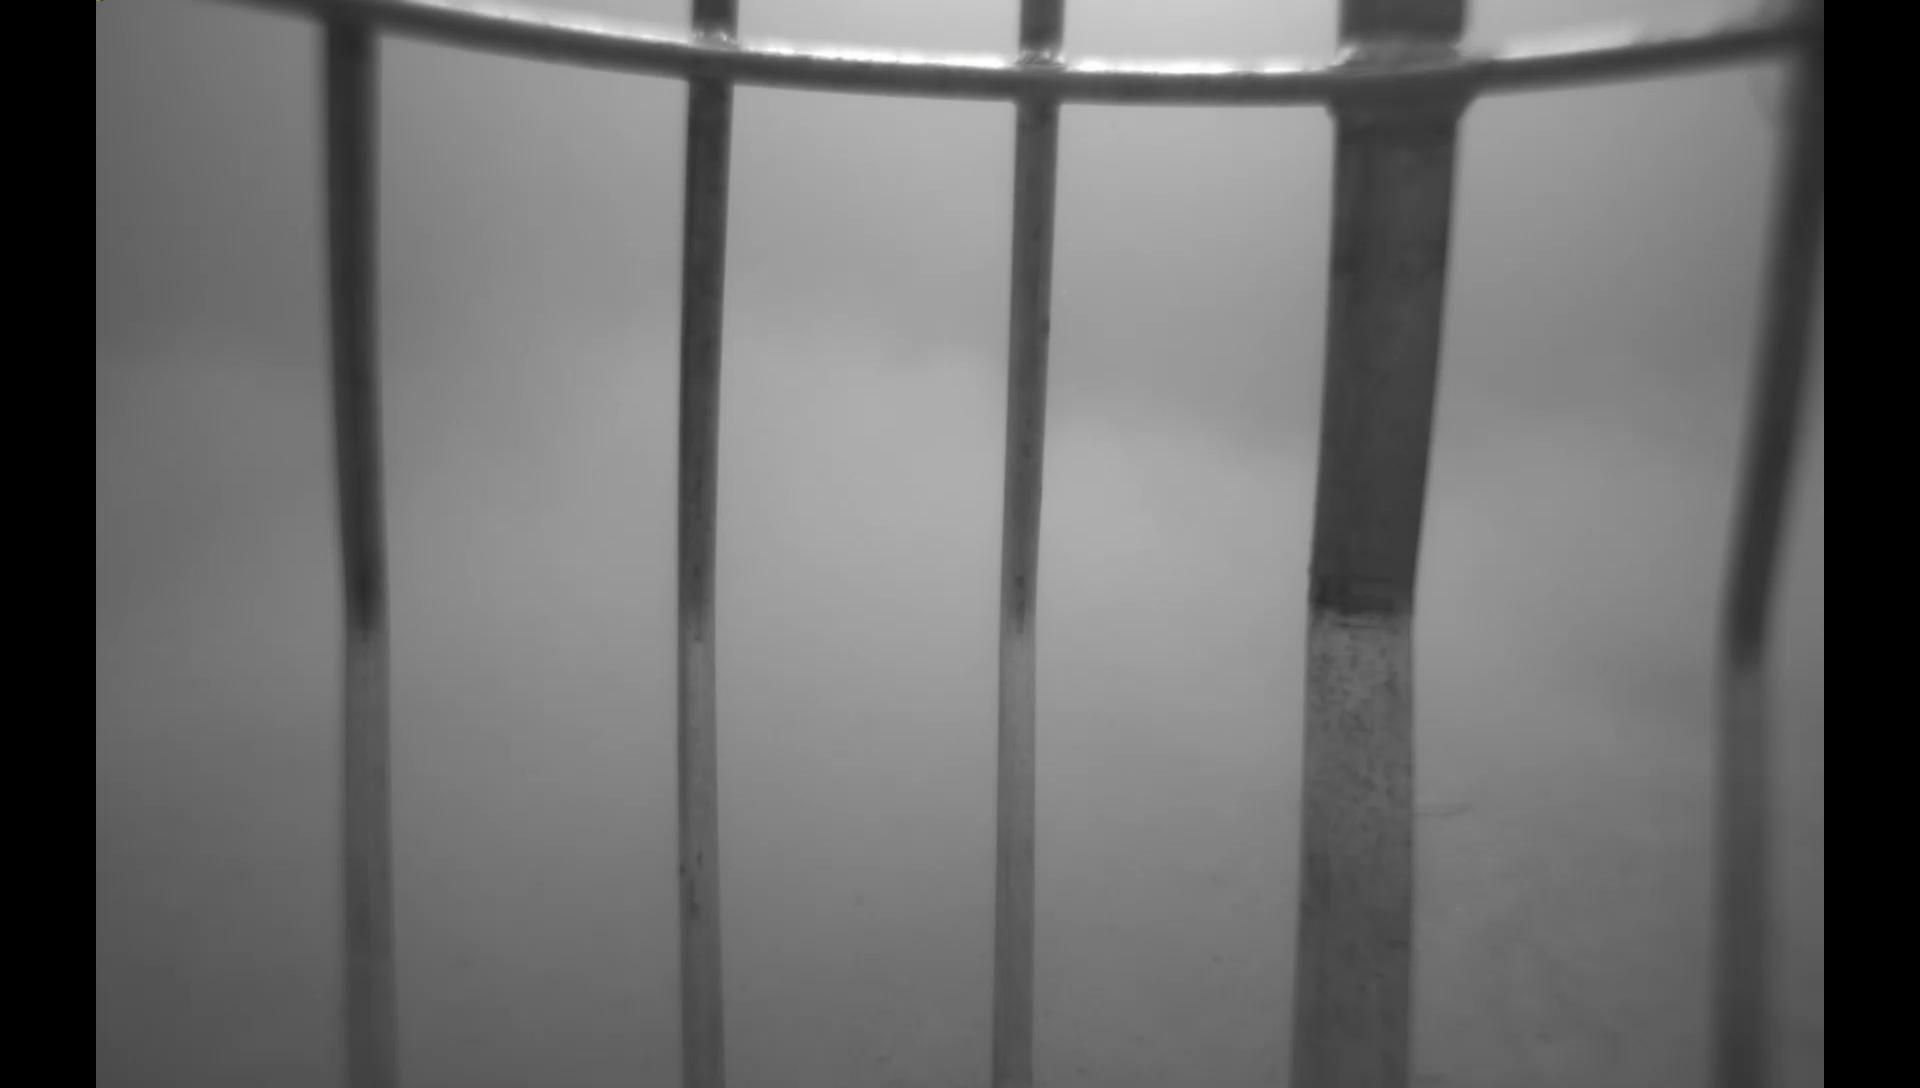OPHICHTHUSPUNCTICEPS-143150402: (1416, 793, 1484, 827)
